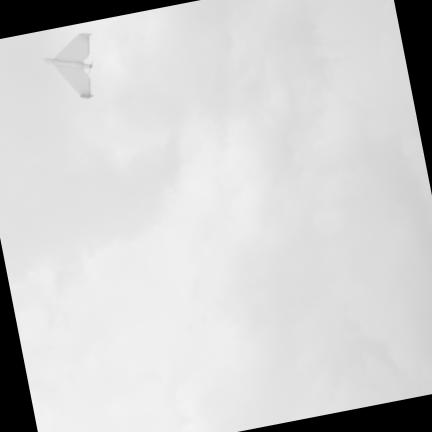Shahed: (42, 33, 93, 97)
